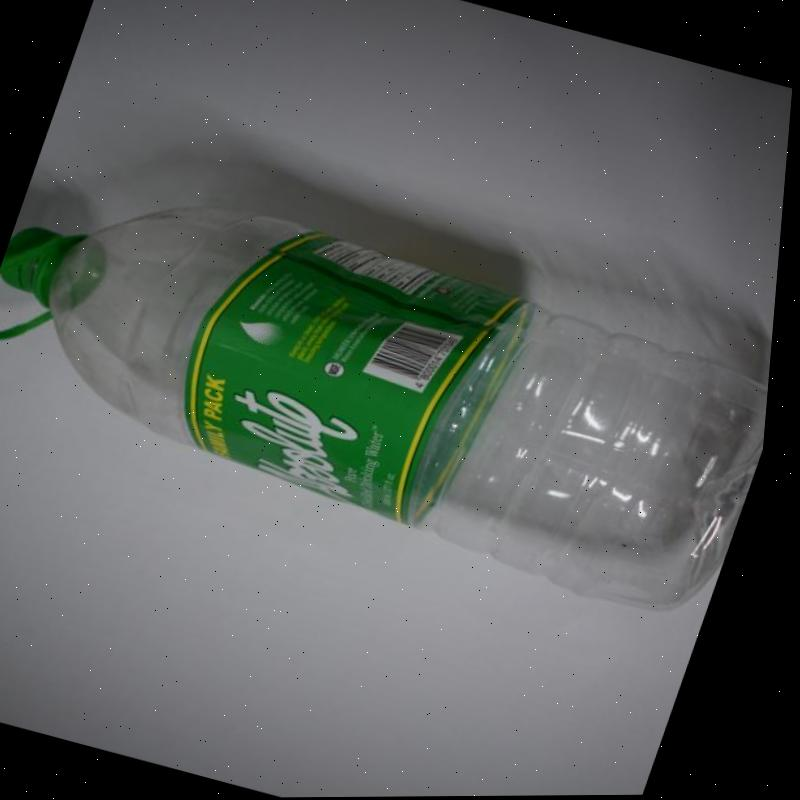botella: (0, 147, 790, 634)
